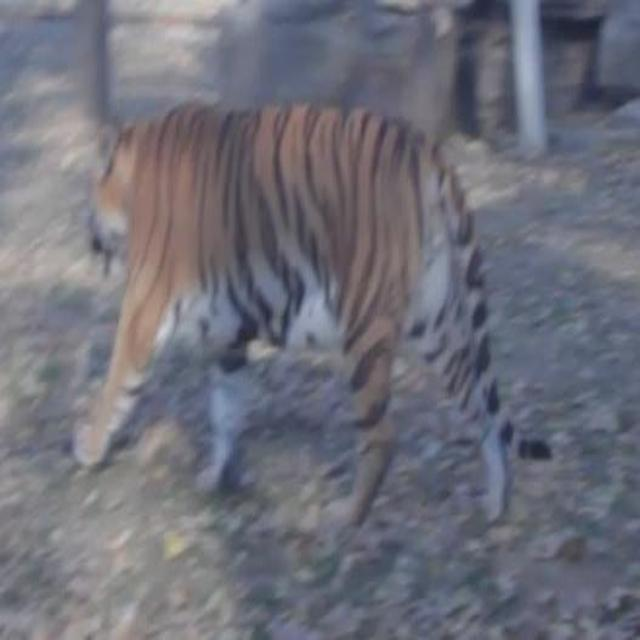tiger: (69, 90, 561, 533)
